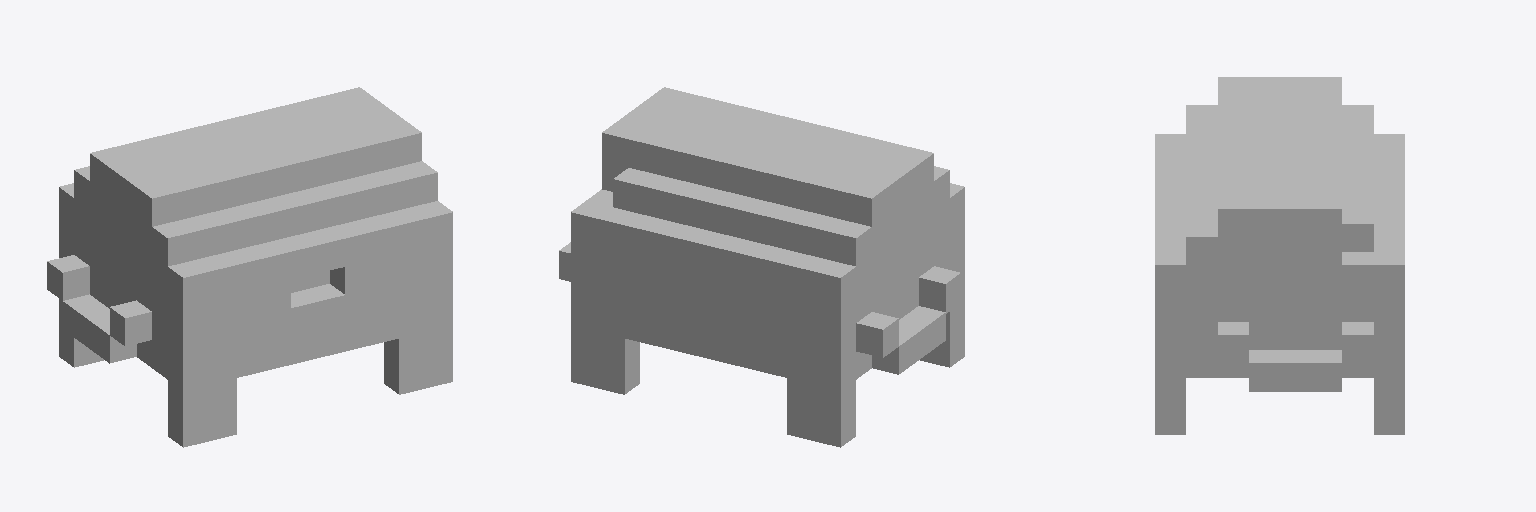
Rendered from Boite a bijoux 2.obj.
3 views of the same model, side by side, from view 1: azimuth 30°, elevation 25°; view 2: azimuth 150°, elevation 25°; view 3: azimuth 270°, elevation 25° (orthographic).
Visible parts, largest first — view 1: Boite a bijoux 2; view 2: Boite a bijoux 2; view 3: Boite a bijoux 2.
Boxes of the visible parts, x1,y1,x2,y2 form: Boite a bijoux 2: [47, 87, 452, 447]; Boite a bijoux 2: [559, 87, 964, 447]; Boite a bijoux 2: [1155, 77, 1404, 434].
Size of the model in its own units: 12 by 8 by 8.